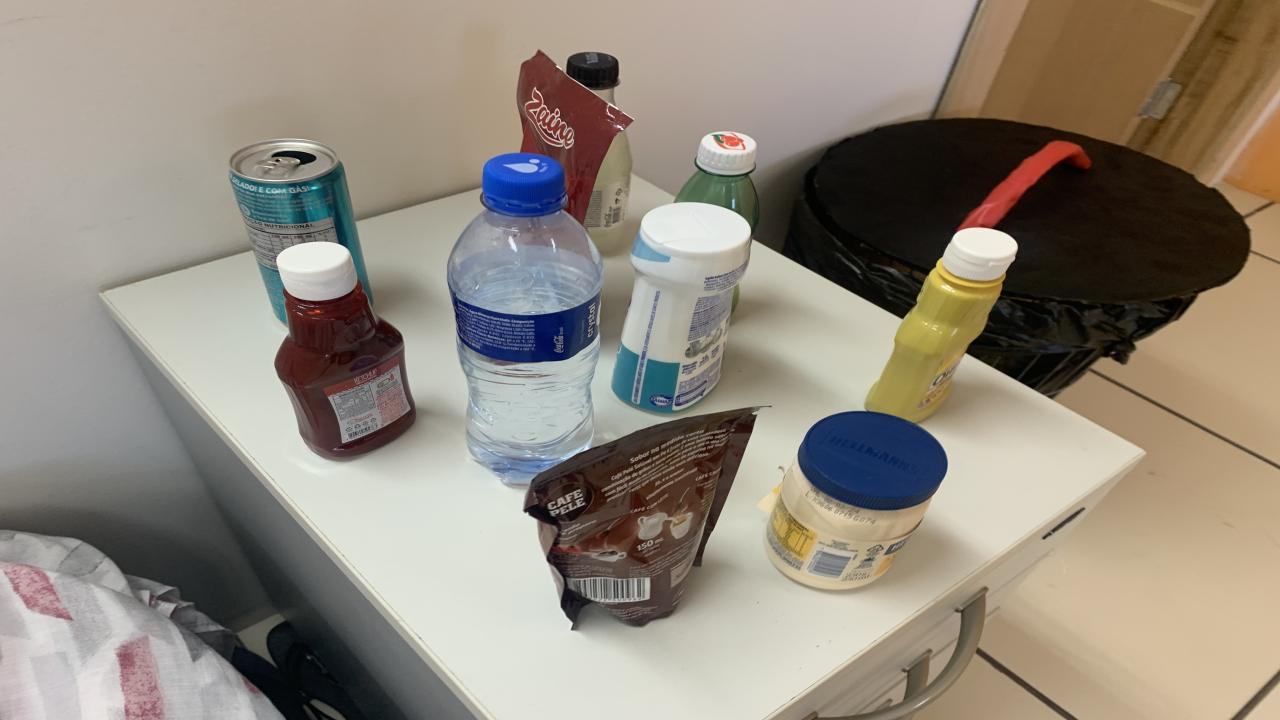Cleaner-Cleanup_Items: (612, 202, 750, 412)
Coffee-Pantry_Items: (525, 407, 758, 626)
Guarana-Drinks: (678, 131, 758, 229)
Ketchup-Pantry_Items: (275, 242, 415, 458)
Mayonnaise-Pantry_Items: (765, 411, 948, 591)
Mustard-Pantry_Items: (865, 227, 1018, 422), (865, 262, 1002, 422)
Soda-Drinks: (585, 131, 632, 253), (565, 52, 620, 105)
Tea-Drinks: (230, 139, 370, 321)
Tomato_Sauce-Pantry_Items: (518, 51, 632, 223)
Water_Bottle-Drinks: (448, 152, 602, 486)
